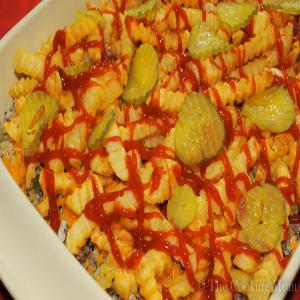fries_350cal: (24, 22, 300, 288)
